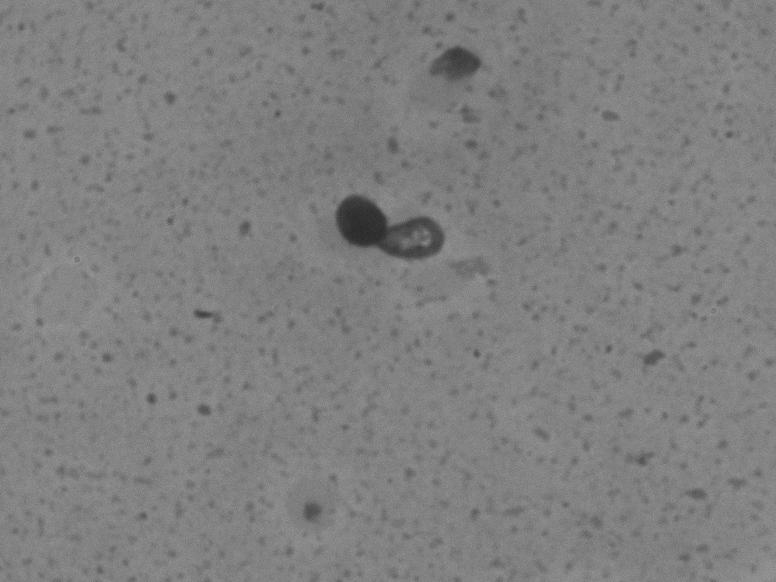Abnormal: (321, 130, 457, 298)
